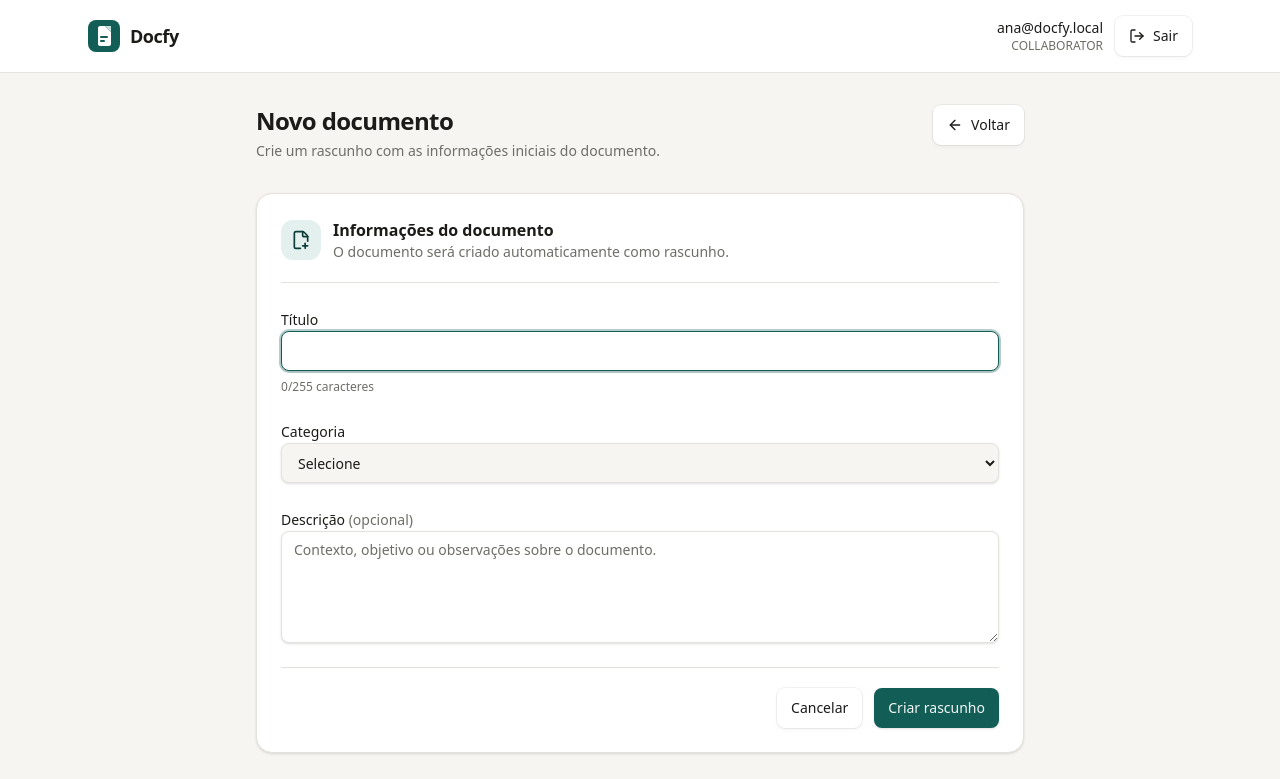
Test case: CreateDocumentPage › shows an unexpected error and preserves its correlation ID
Type "Policy" into the field labelled "Título" at [640, 351], box [281,331,999,371]
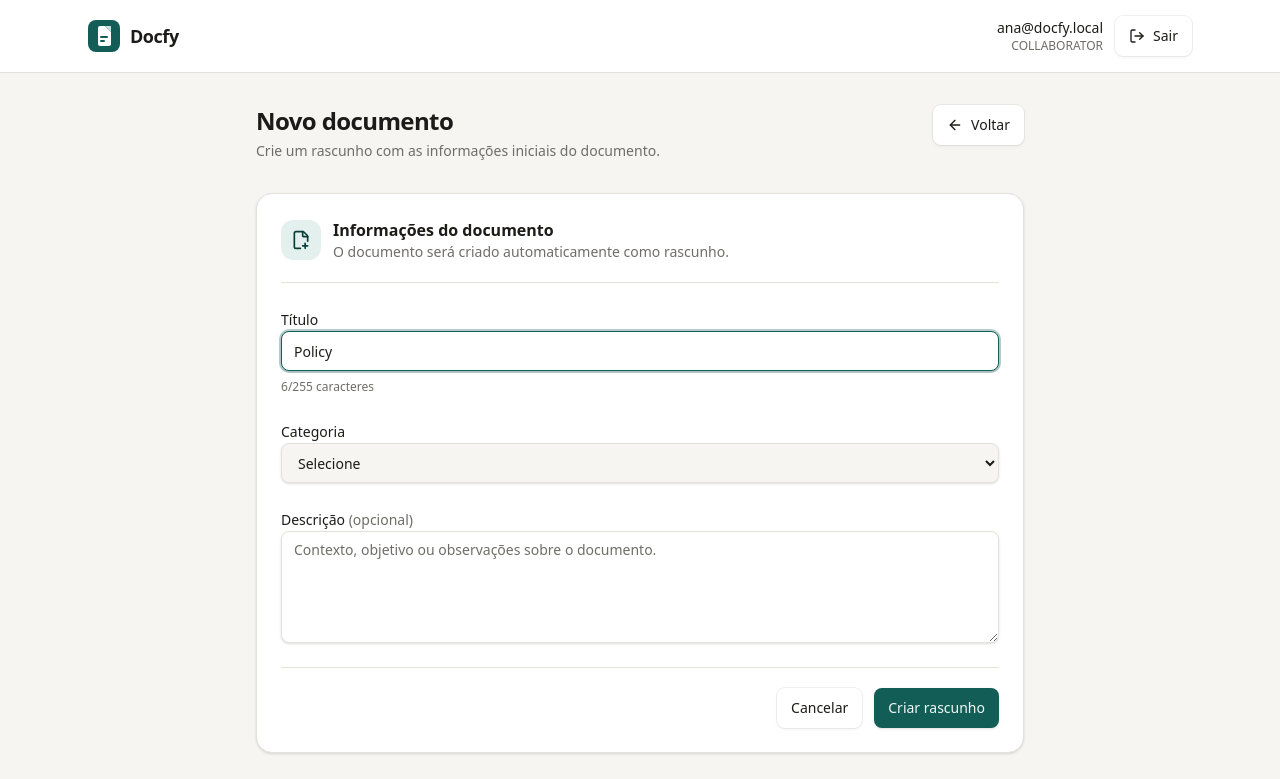
Select "Contract" in the dropdown labelled "Categoria" at [640, 463], box [281,443,999,483]
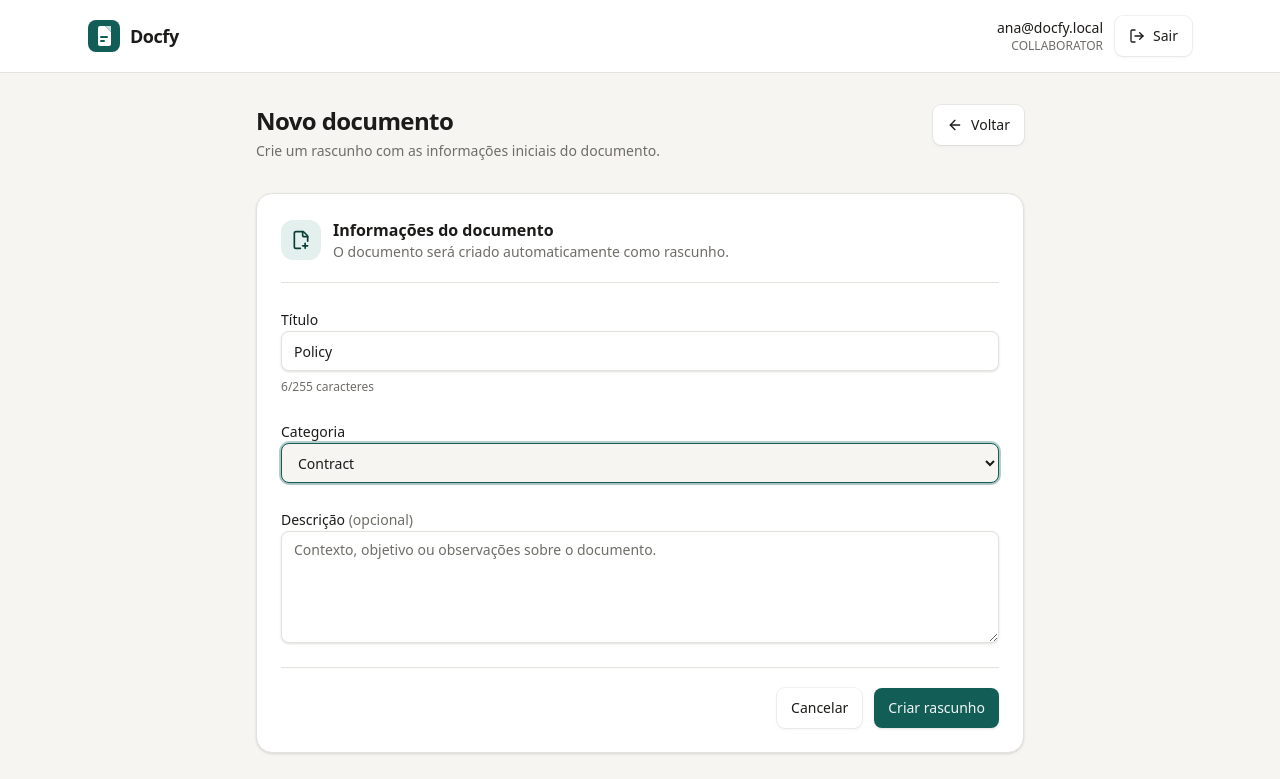
Click the button "Criar rascunho" at [937, 708], box [874,688,999,728]
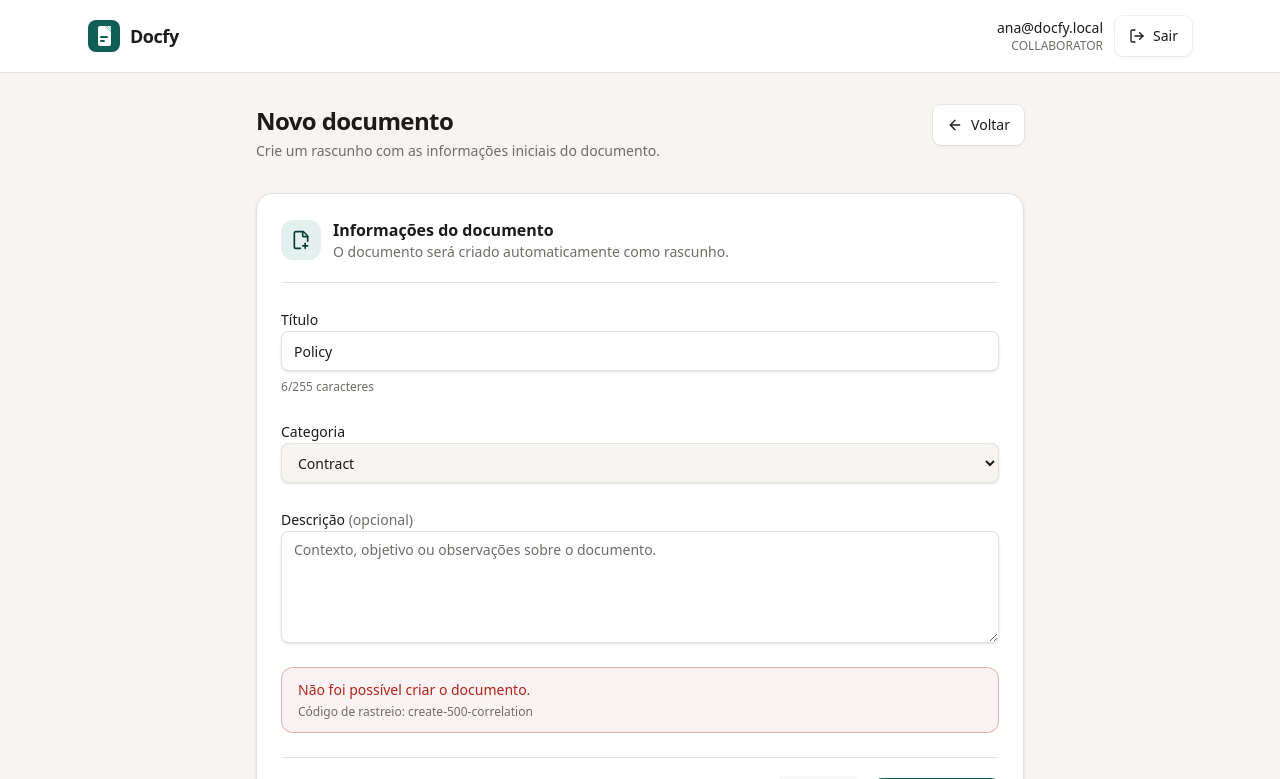
Expected: the text "Não foi possível criar o documento." is shown, [298,680,530,699]
Expected: the text "Código de rastreio: create-500-correlation" is shown, [298,703,533,720]
